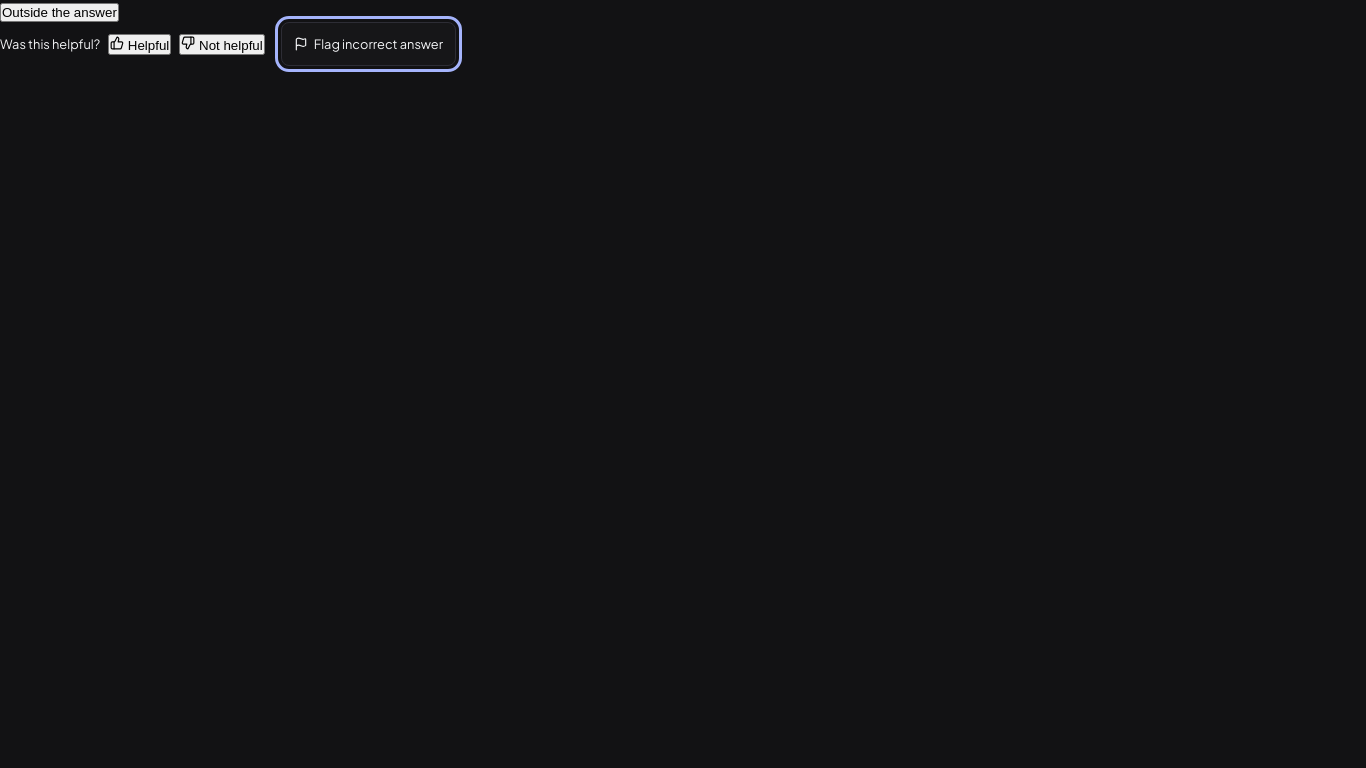
Test: Report comment validation › rejects blank comments without a network call ()
Click the button "Flag incorrect answer" at coordinates (368, 44), box [281,22,456,66]
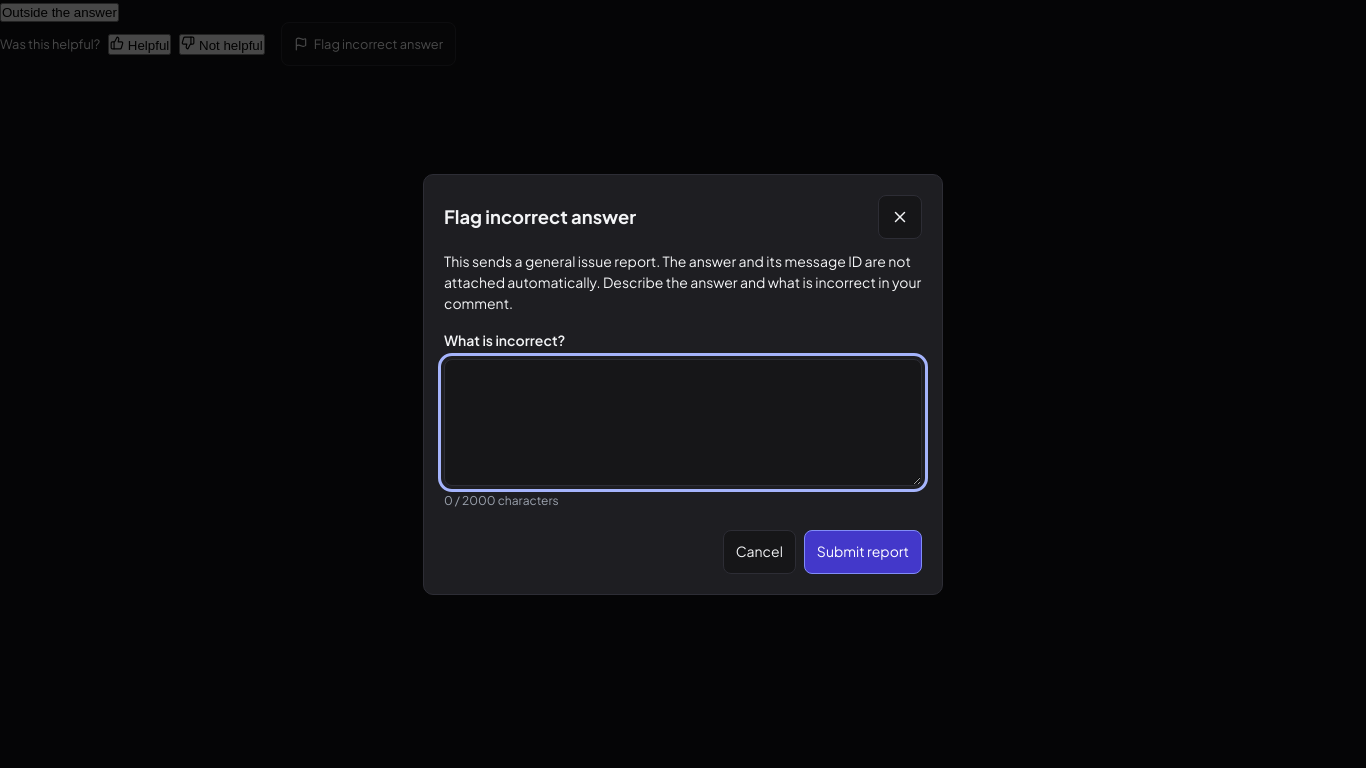
Submit the form "Submit report", box [444,330,922,574]
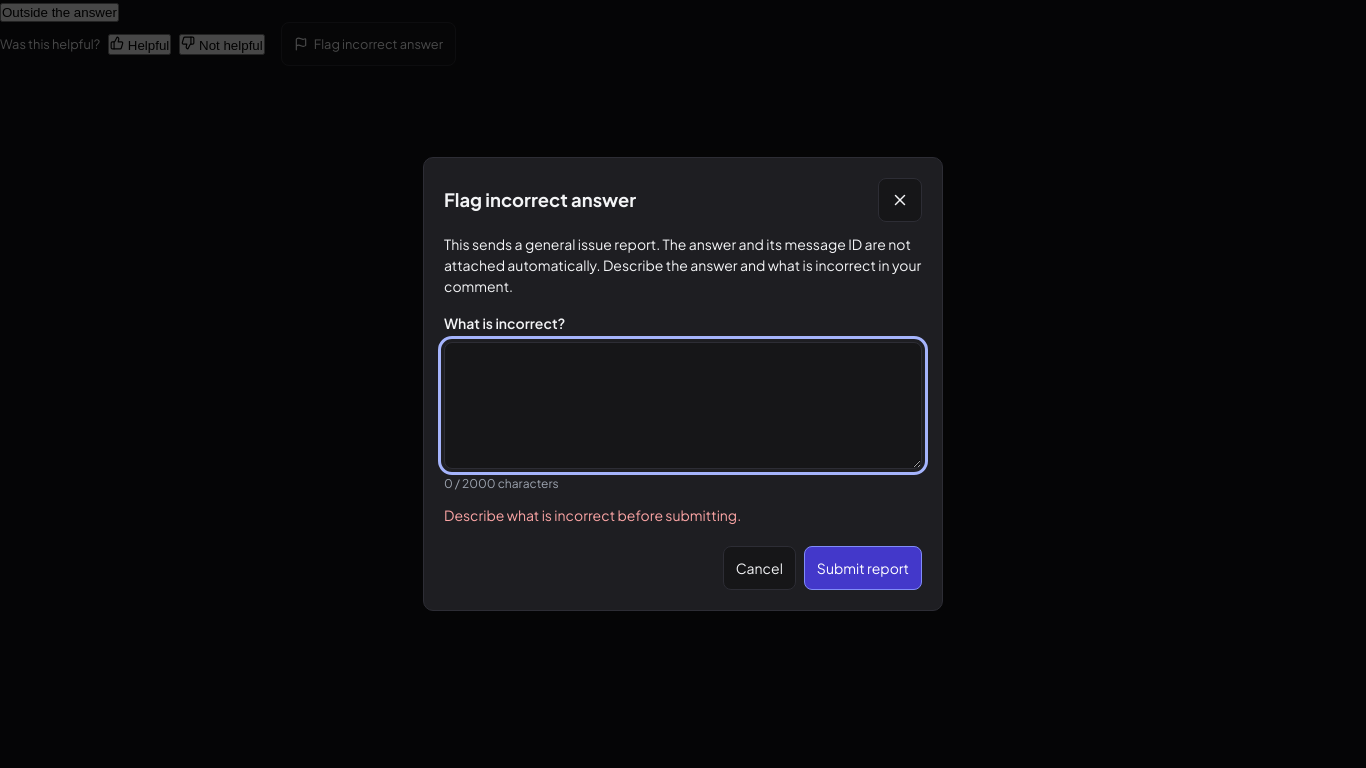
expect the message reads "Describe what is incorrect before submitting.": met, box [444,506,741,524]
